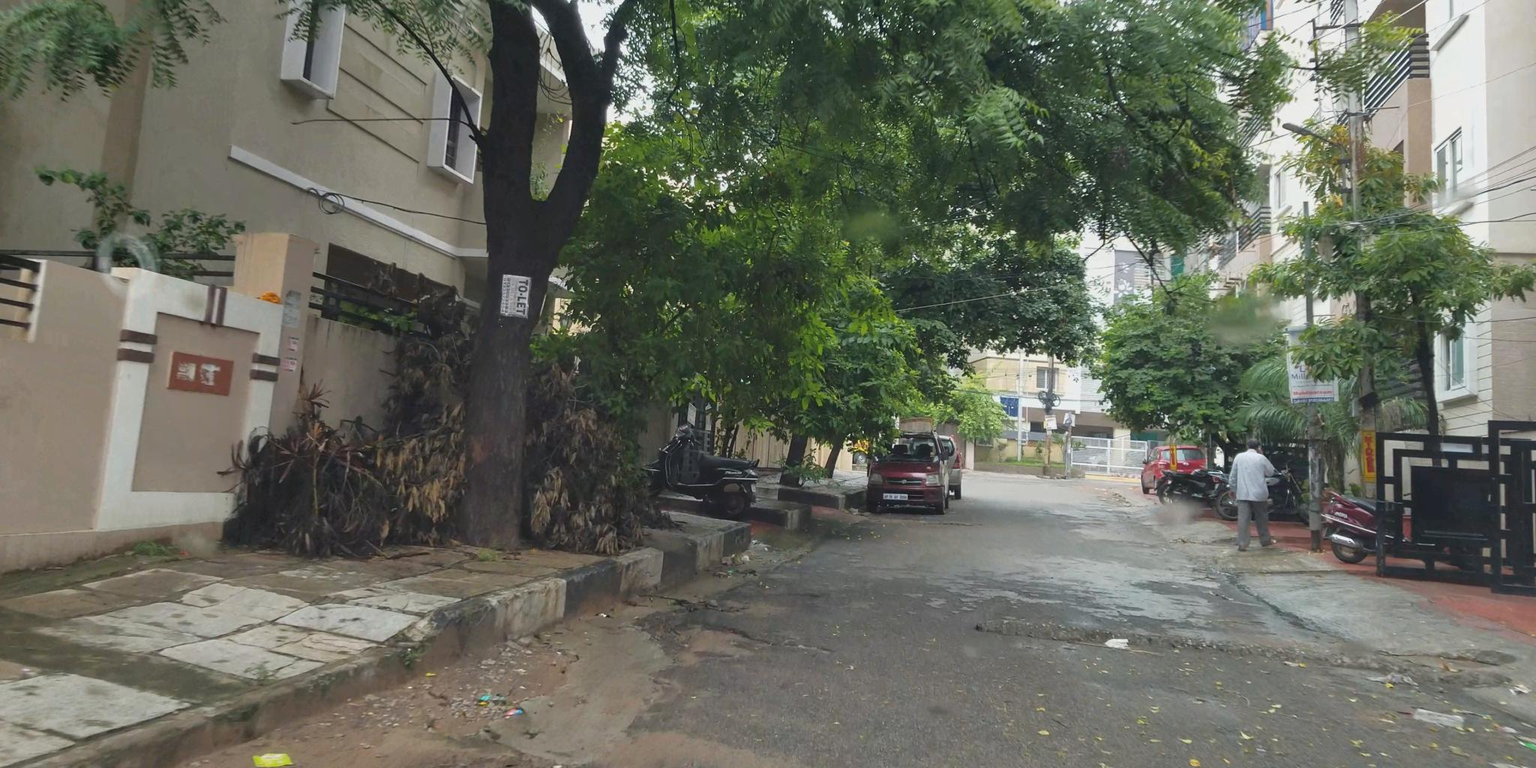streetlight: (1268, 112, 1355, 156)
